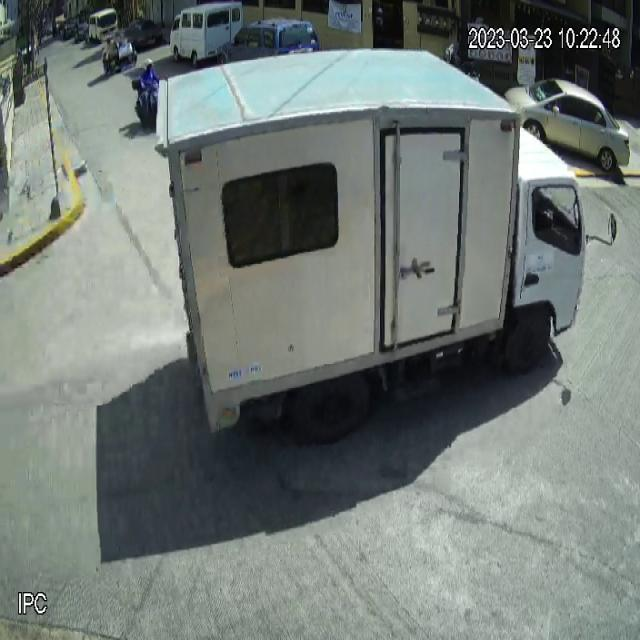Truck: (156, 47, 620, 454)
